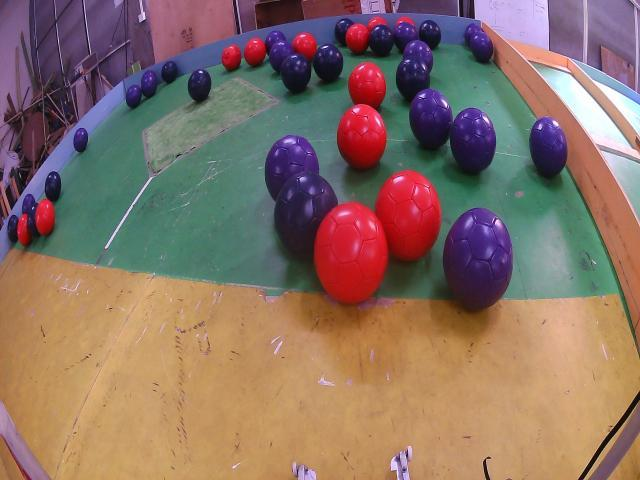jambhalya: (442, 207, 514, 310), (265, 135, 319, 200), (450, 108, 496, 173), (410, 88, 452, 150), (529, 117, 568, 178), (402, 40, 434, 72), (269, 40, 295, 73), (394, 22, 418, 53), (470, 32, 494, 63), (265, 30, 286, 55), (464, 23, 482, 47), (125, 85, 142, 108), (141, 75, 157, 98), (74, 128, 89, 152), (21, 193, 36, 215), (143, 71, 156, 79)
kaalyya: (274, 172, 338, 257), (396, 57, 430, 102), (312, 43, 344, 82), (281, 53, 311, 92), (369, 25, 394, 57), (188, 68, 211, 102), (419, 20, 441, 50), (335, 18, 354, 45), (45, 172, 61, 202), (28, 203, 40, 237), (161, 60, 178, 83), (8, 215, 19, 242)
